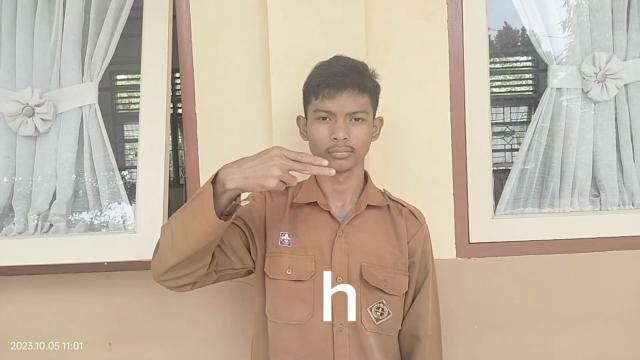H: (218, 146, 336, 202)
